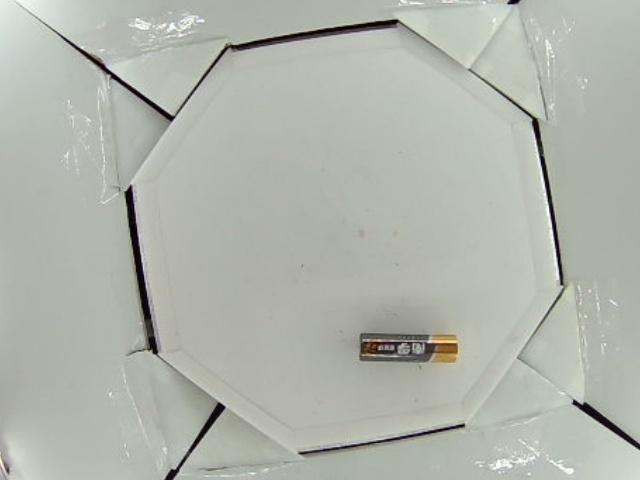Battery: (357, 334, 460, 361)
